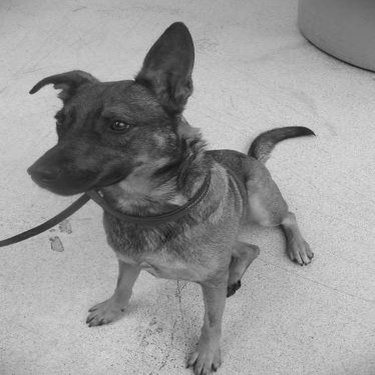dog: (19, 13, 323, 371)
